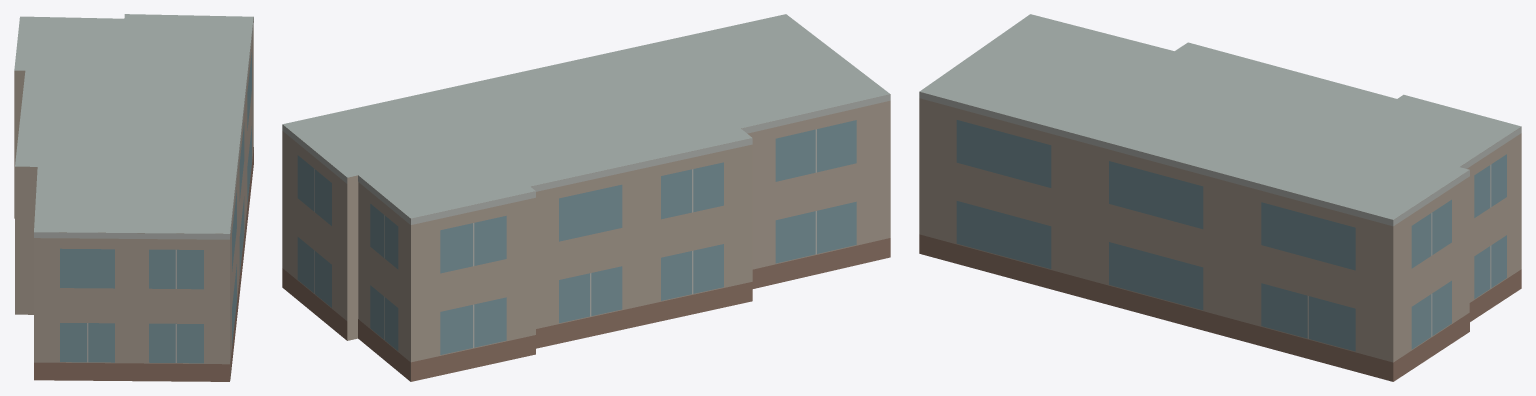
The model's file is survey-upis-33045306.glb.
The picture shows the model from 3 angles, left to right: view 1: azimuth 30°, elevation 25°; view 2: azimuth 150°, elevation 25°; view 3: azimuth 270°, elevation 25°; orthographic projection. The views are drawn at different scales.
Parts seen in each view (by area): view 1: survey-upis-33045306.tmp; view 2: survey-upis-33045306.tmp; view 3: survey-upis-33045306.tmp.
Boxes of the visible parts, x1,y1,x2,y2 form: survey-upis-33045306.tmp: (14, 14, 253, 381); survey-upis-33045306.tmp: (282, 14, 890, 381); survey-upis-33045306.tmp: (919, 14, 1521, 381).
Bounding box in the file's own units: 16.64 × 6.1 × 20.57.
